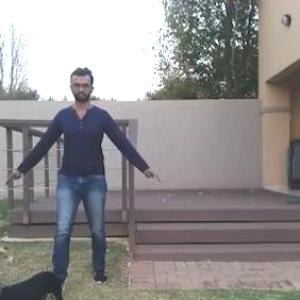land: (26, 75, 144, 280)
